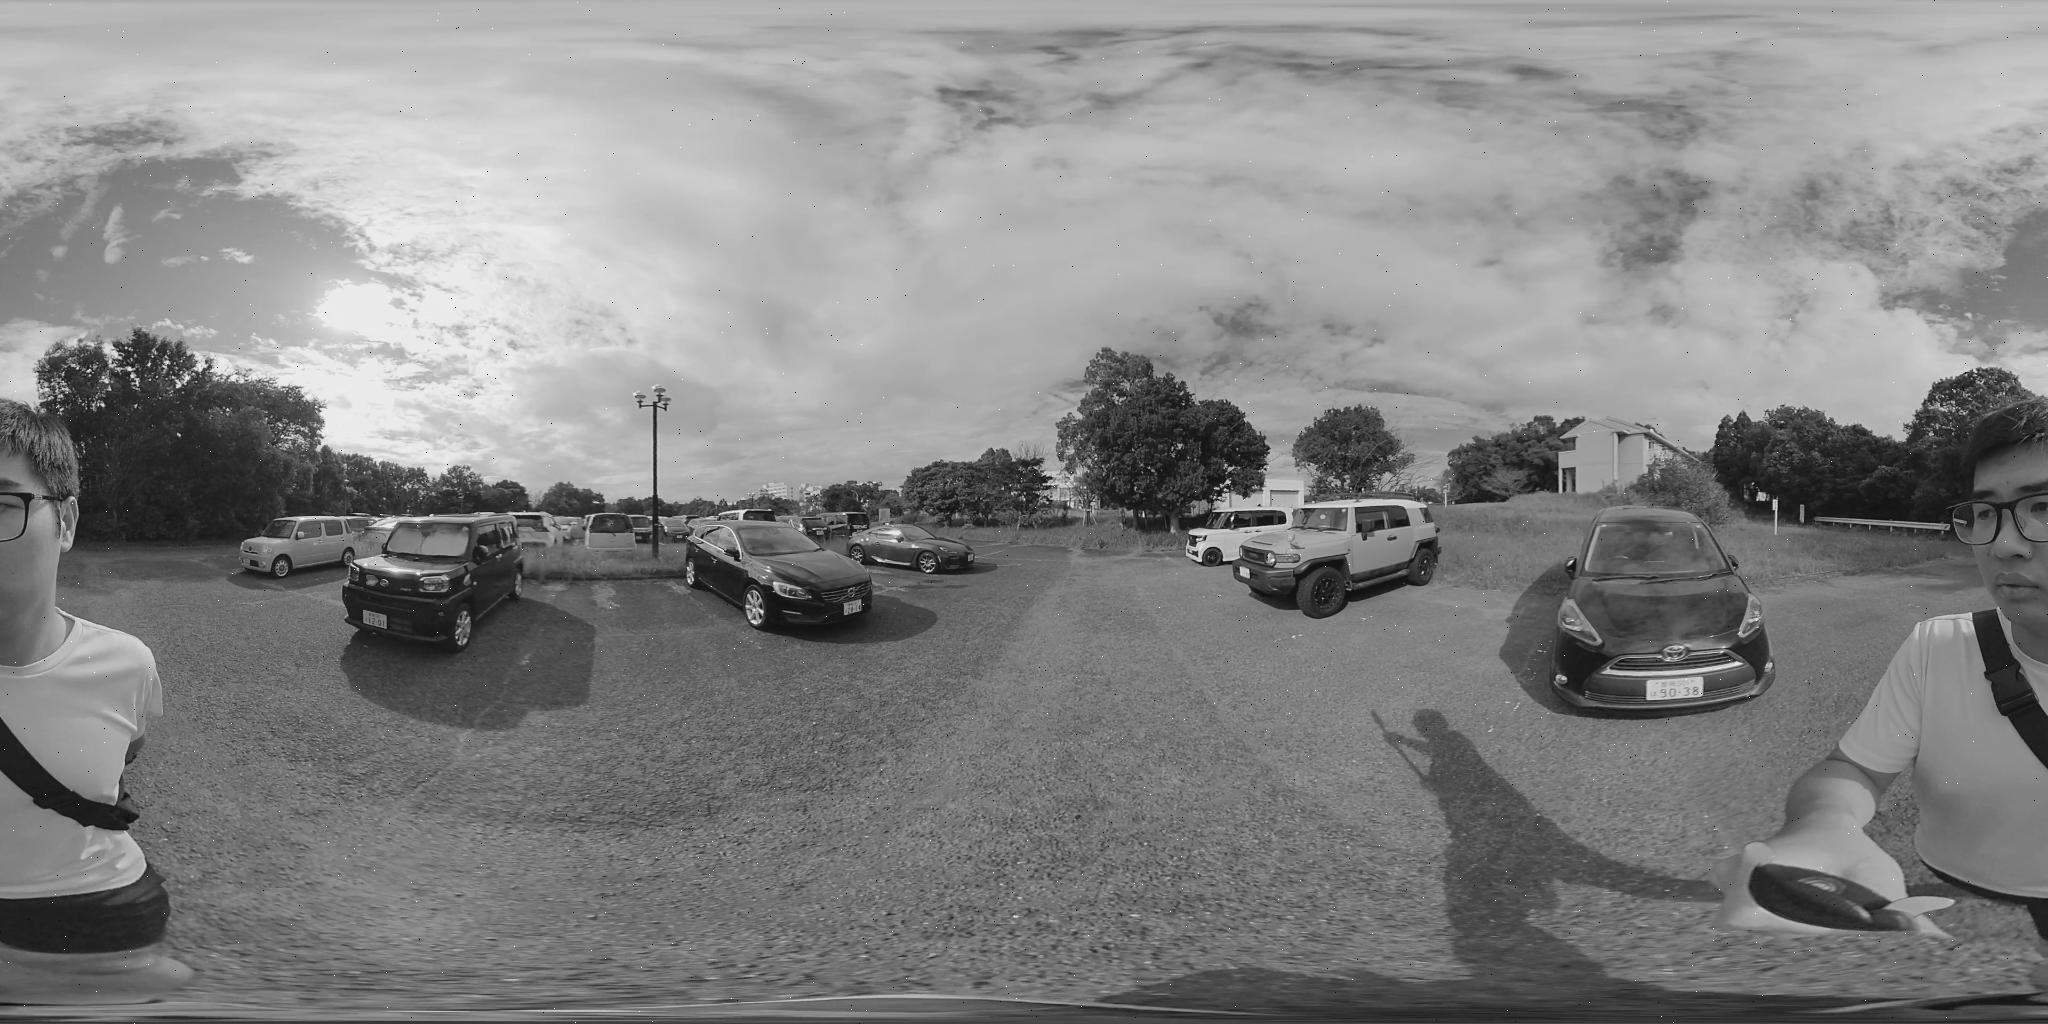car: (1553, 507, 1770, 717), (1232, 494, 1445, 616), (337, 516, 533, 648), (683, 522, 883, 630), (240, 515, 377, 576), (842, 524, 976, 572), (1187, 508, 1293, 563)
